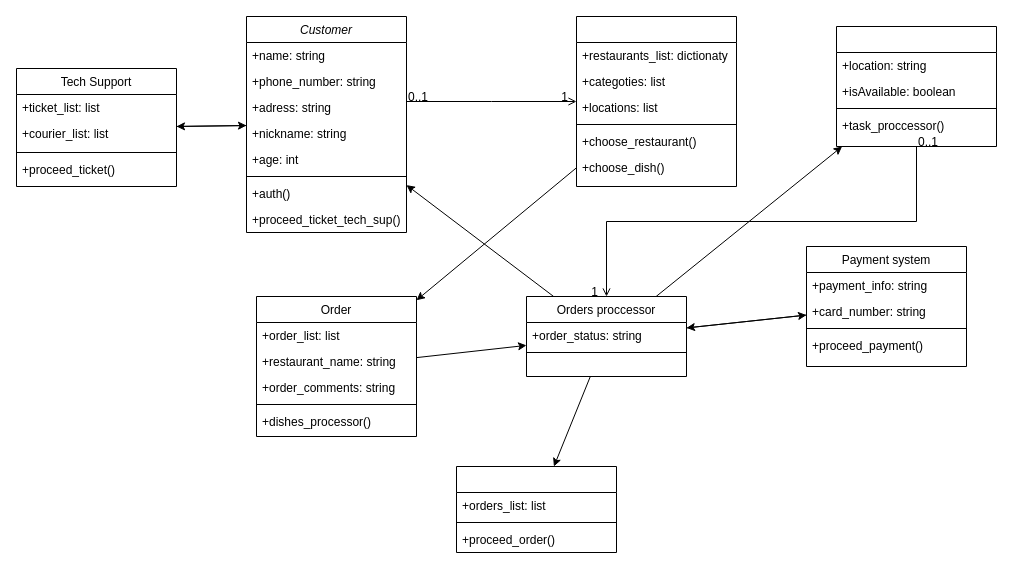
The diagram is 1013 pixels wide and 569 high, and some of its shapes have lost their labels. The box of each missing label's shape, as (x1, y1, x2, y2) in pixels:
Courier: (836, 26, 996, 146)
Main: (576, 16, 736, 186)
Restaurant Admin Panel: (456, 466, 616, 552)
